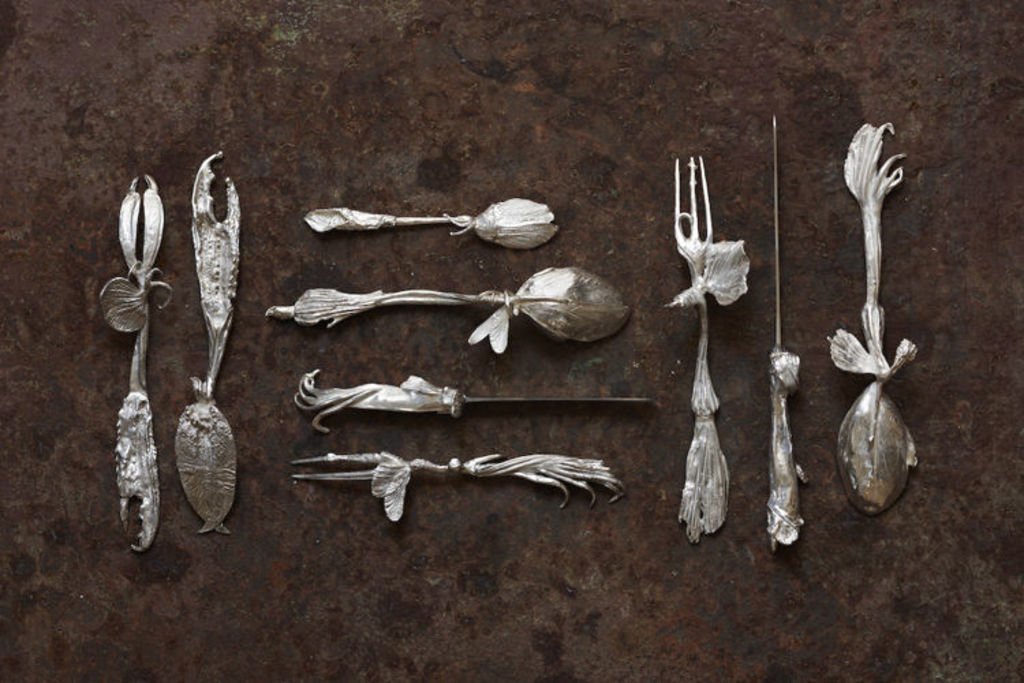fork: (661, 154, 749, 543)
